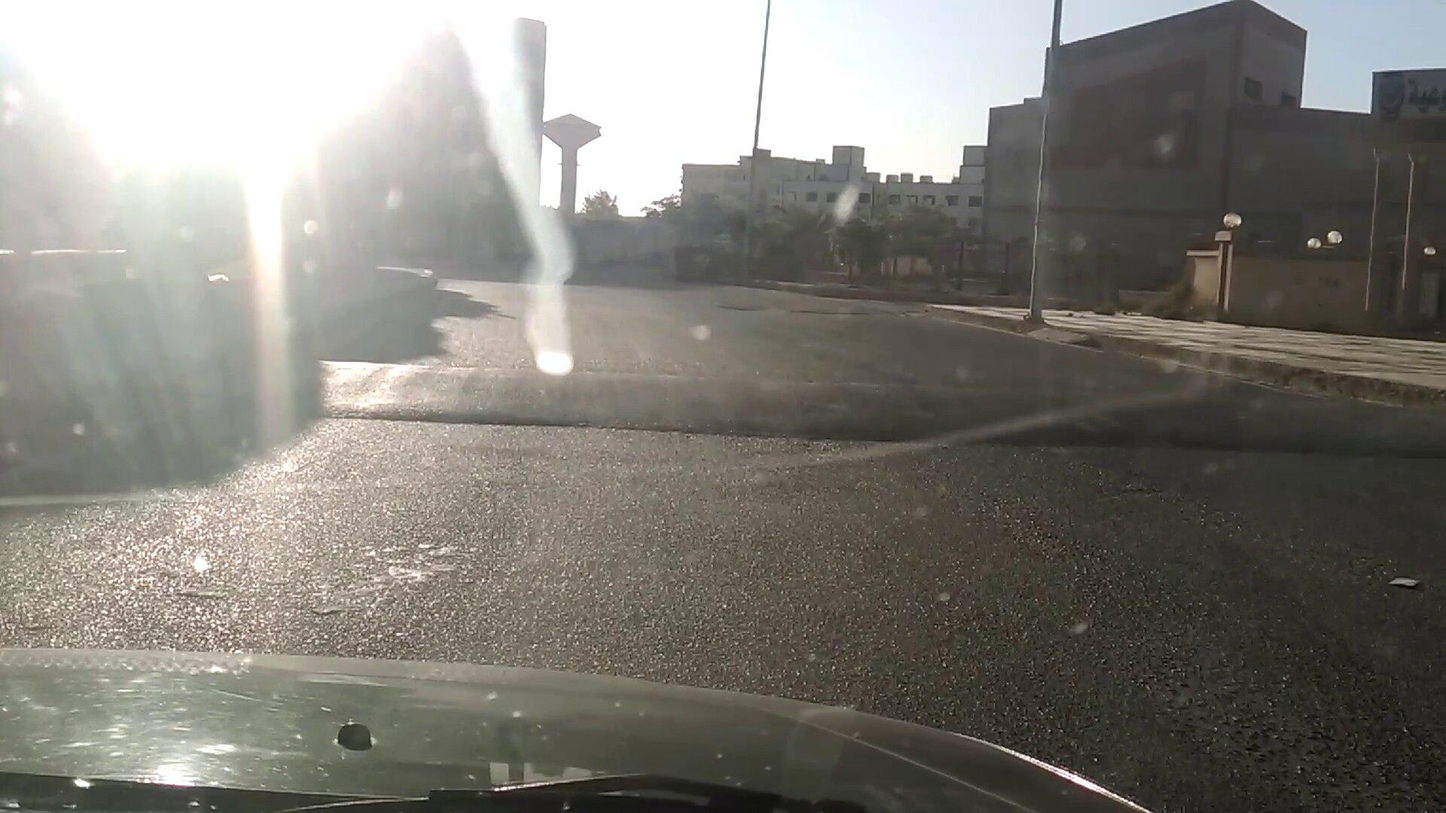Bump: (279, 343, 1446, 457)
